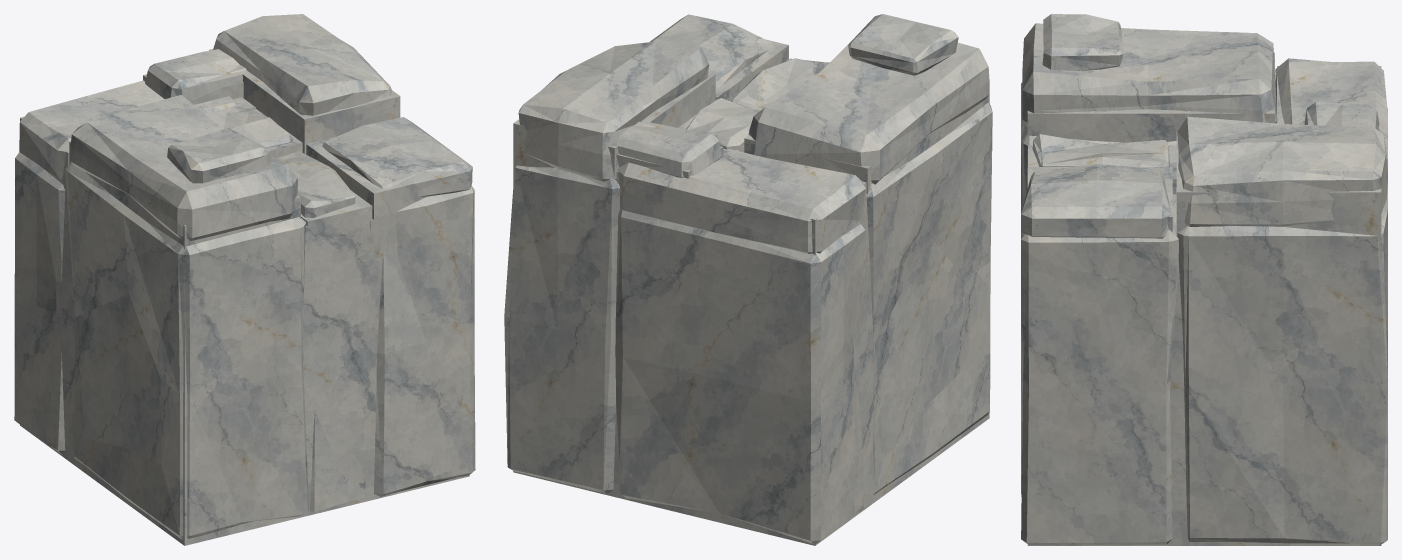
The model's file is wall_stone_06.glb.
3 views of the same model, side by side, from view 1: azimuth 30°, elevation 25°; view 2: azimuth 150°, elevation 25°; view 3: azimuth 270°, elevation 25° (orthographic). The views are drawn at different scales.
Parts seen in each view (by area): view 1: WallStone06; view 2: WallStone06; view 3: WallStone06.
Part boxes in pixels (x1,y1,x2,y2): WallStone06: (14, 14, 475, 545); WallStone06: (504, 14, 992, 545); WallStone06: (1021, 14, 1387, 545).
Size of the model in its own units: 1 by 1.19 by 1.
Materials: 1 (1 with a texture image).
